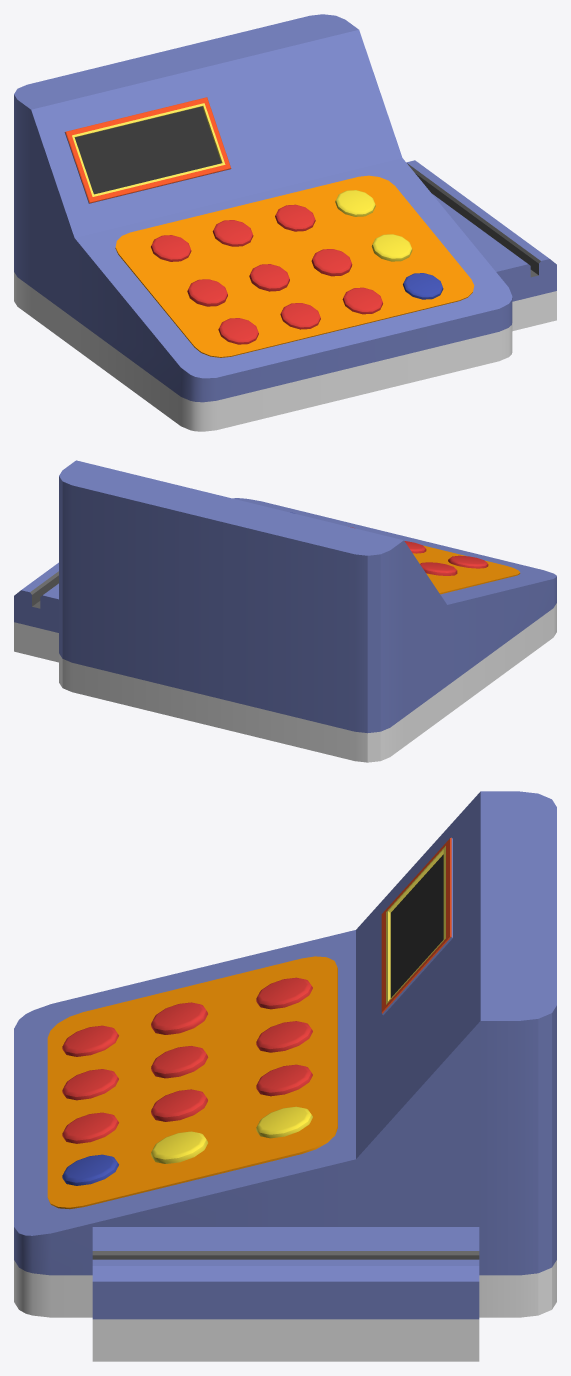
The model's file is Cash_Register.fbx.
The picture shows the model from 3 angles, top to bottom: view 1: azimuth 30°, elevation 25°; view 2: azimuth 150°, elevation 25°; view 3: azimuth 270°, elevation 25°; orthographic projection. The views are drawn at different scales.
Parts seen in each view (by area): view 1: Cash_Register; view 2: Cash_Register; view 3: Cash_Register.
Part boxes in pixels (bbox=[...]): Cash_Register: bbox=[14, 14, 556, 431]; Cash_Register: bbox=[14, 460, 556, 762]; Cash_Register: bbox=[14, 791, 556, 1361].
Bounding box in the file's own units: 29.37 × 14.87 × 24.66.
1 material, 1 textured.
